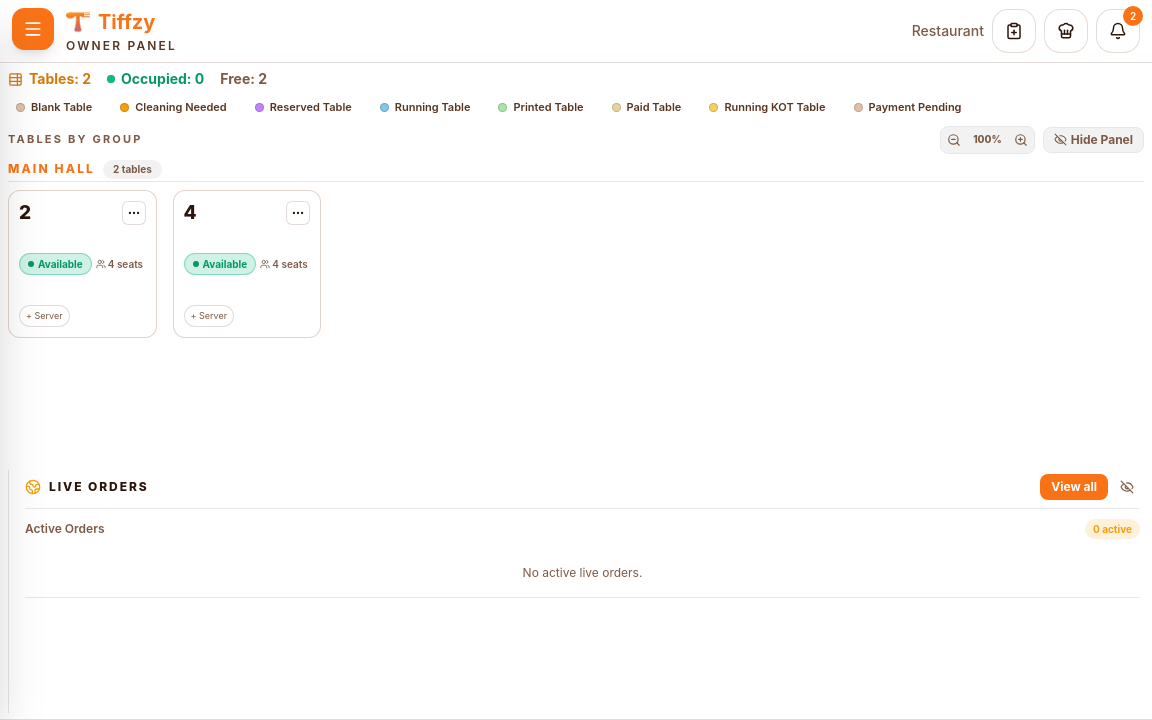
Scenario: Table Server Assignment Filtering — Authoritative Designation Verification › 2. OwnerLayout '+ Server' Popover Component Verification › displays 'No servers available' when there are 0 active servers
This screenshot has width=1152, height=720.
Click the 1st button titled "Assign server for Table 2" at [44, 316], box [19, 305, 70, 327]
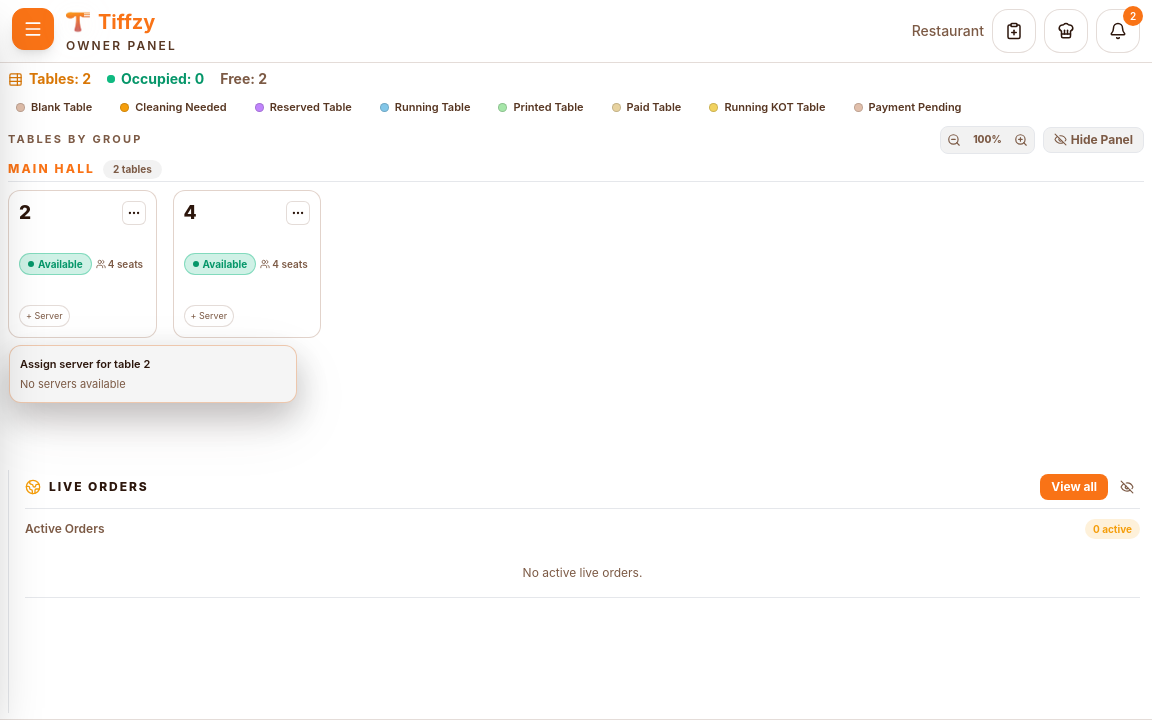
Result: the text "No servers available" is shown at [20, 377, 126, 391]
